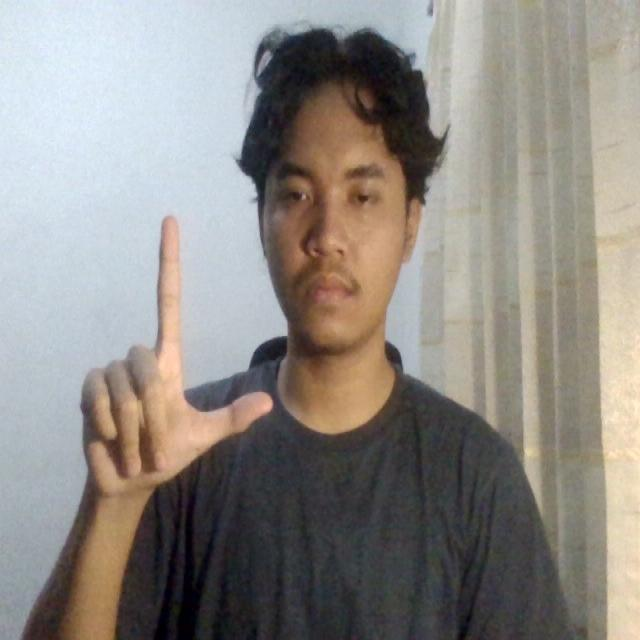I: (47, 205, 294, 512)
